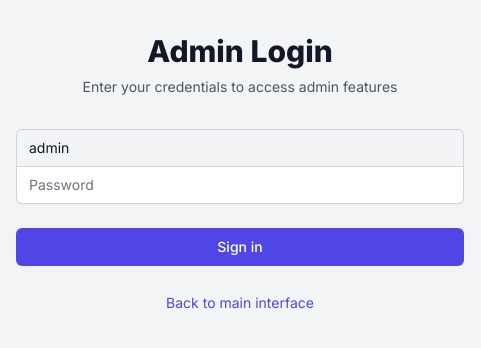
Test: AdminLogin › when not authenticated › should handle login failure
Expected: the button "Sign in" is shown, [16,228,464,266]
Step 1. Type "invalid-api-key" into the password field with placeholder "Password" → (240, 184), box [16,166,464,204]
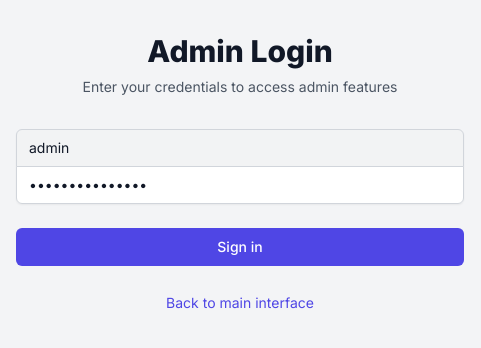
Step 2. Click the button "Sign in" → (240, 246), box [16,228,464,266]
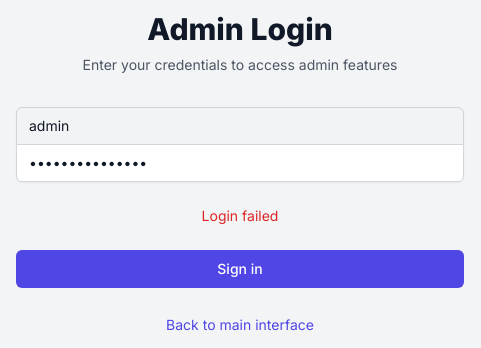
Expected: the text "Login failed" is shown, [202,206,278,224]
